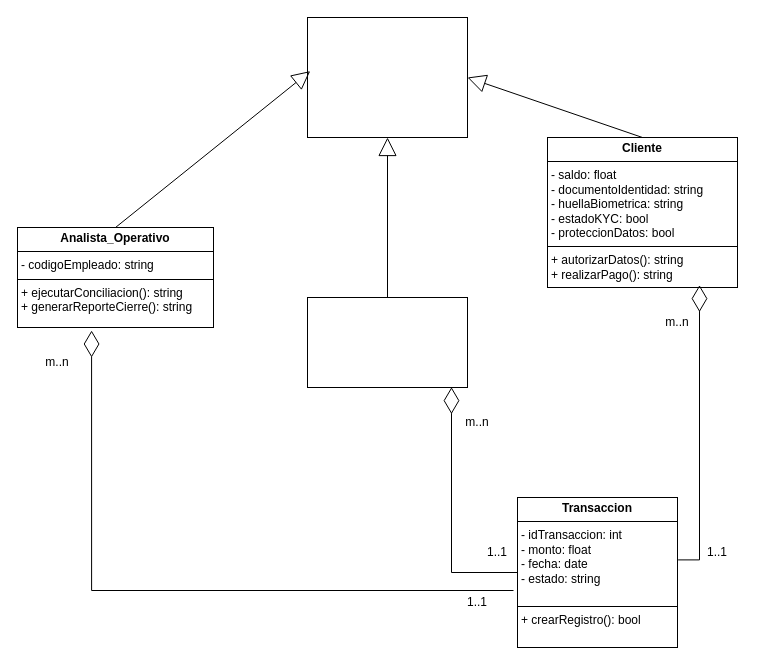
The diagram is 765 pixels wide and 665 high, and some of its shapes have lost their labels. Each missing label, with the box of its shape:
Oficial_Cumplimiento - licenciaAuditor: string + consultarLogs(): string: (306, 296, 468, 388)
Usuario - idUsuario: int - nombre: string - correo: string + login(): bool: (306, 16, 468, 138)
